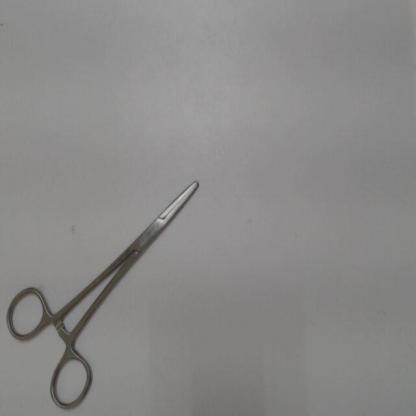Mayo Needle Holder: (2, 167, 212, 414)
